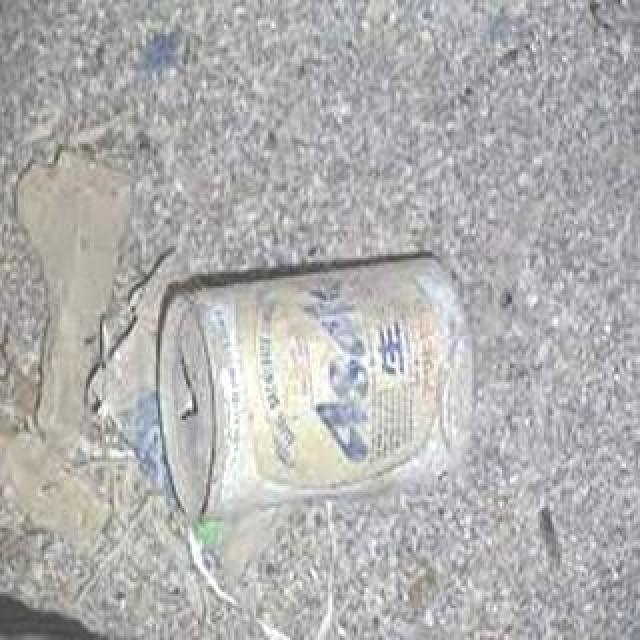Can: (131, 259, 493, 519)
